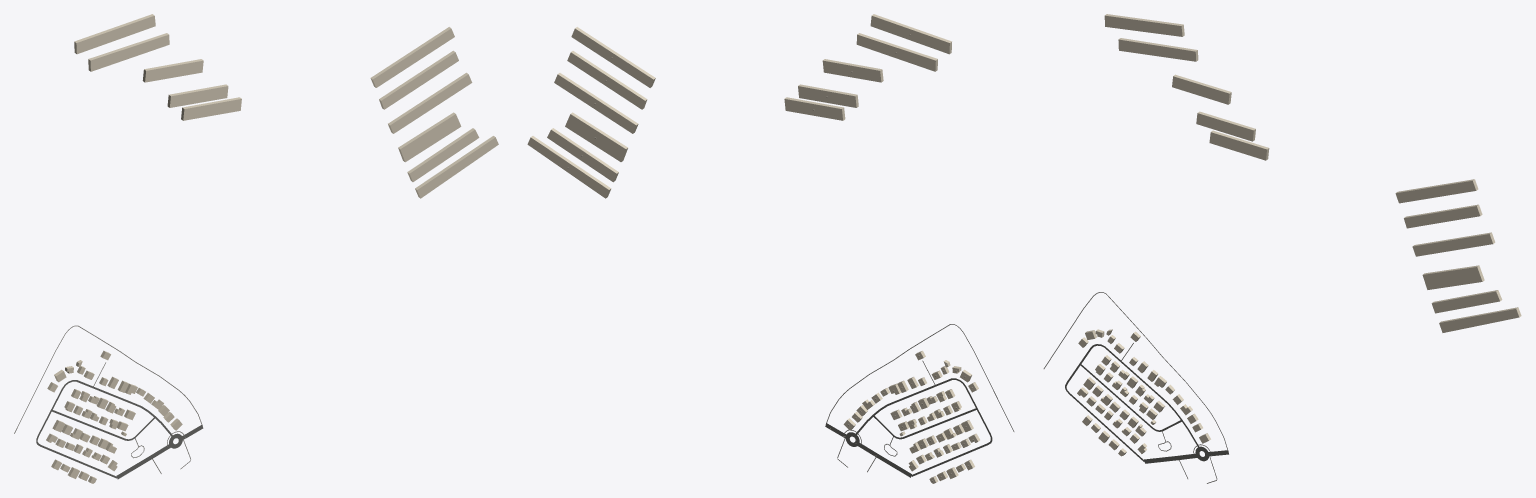
Rendered from historic-palestine-15_34_3569_3280.glb.
The picture shows the model from 3 angles, left to right: view 1: azimuth 30°, elevation 25°; view 2: azimuth 150°, elevation 25°; view 3: azimuth 330°, elevation 25°; orthographic projection.
Parts seen in each view (by area): view 1: Building_, Building_.002, Building_.007, Building_.005, Building_.009, Building_.003, Building_.001, Building_.004, Building_.008, Building_.010, Building_.006, Road חרמון; view 2: Building_, Building_.002, Building_.007, Building_.005, Building_.001, Building_.003, Building_.009, Building_.004, Building_.006, Building_.008, Building_.010, Road חרמון; view 3: Building_.007, Building_.009, Building_.005, Building_.002, Building_, Building_.001, Building_.003, Building_.004, Building_.006, Building_.008, Building_.010, Road חרמון.
Part boxes in pixels (x1,y1,x2,y2): Building_: (370, 27, 454, 87); Building_.002: (388, 72, 472, 133); Building_.007: (74, 14, 155, 54); Building_.005: (398, 112, 461, 162); Building_.009: (88, 33, 169, 71); Building_.003: (415, 136, 498, 198); Building_.001: (379, 50, 458, 109); Building_.004: (407, 128, 479, 181); Building_.008: (167, 84, 228, 107); Building_.010: (142, 59, 203, 82); Building_.006: (181, 97, 241, 120); Road חרמון: (36, 380, 173, 478); Building_: (571, 27, 655, 87); Building_.002: (554, 73, 638, 133); Building_.007: (870, 14, 951, 54); Building_.005: (565, 112, 627, 161); Building_.001: (567, 51, 647, 109); Building_.003: (527, 136, 611, 198); Building_.009: (856, 33, 937, 71); Building_.004: (547, 128, 618, 182); Building_.006: (784, 97, 845, 120); Building_.008: (798, 84, 858, 107); Building_.010: (822, 59, 883, 82); Road חרמון: (855, 378, 992, 476); Building_.007: (1104, 14, 1184, 36); Building_.009: (1118, 38, 1198, 61); Building_.005: (1422, 265, 1484, 289); Building_.002: (1412, 232, 1495, 256); Building_: (1395, 179, 1478, 203); Building_.001: (1404, 204, 1482, 228); Building_.003: (1439, 307, 1521, 332); Building_.004: (1431, 290, 1502, 313); Building_.006: (1209, 130, 1269, 160); Building_.008: (1196, 111, 1255, 141); Building_.010: (1172, 74, 1231, 104); Road חרמון: (1065, 344, 1199, 461).
Size of the model in its own units: 940 by 853 by 8.7.
